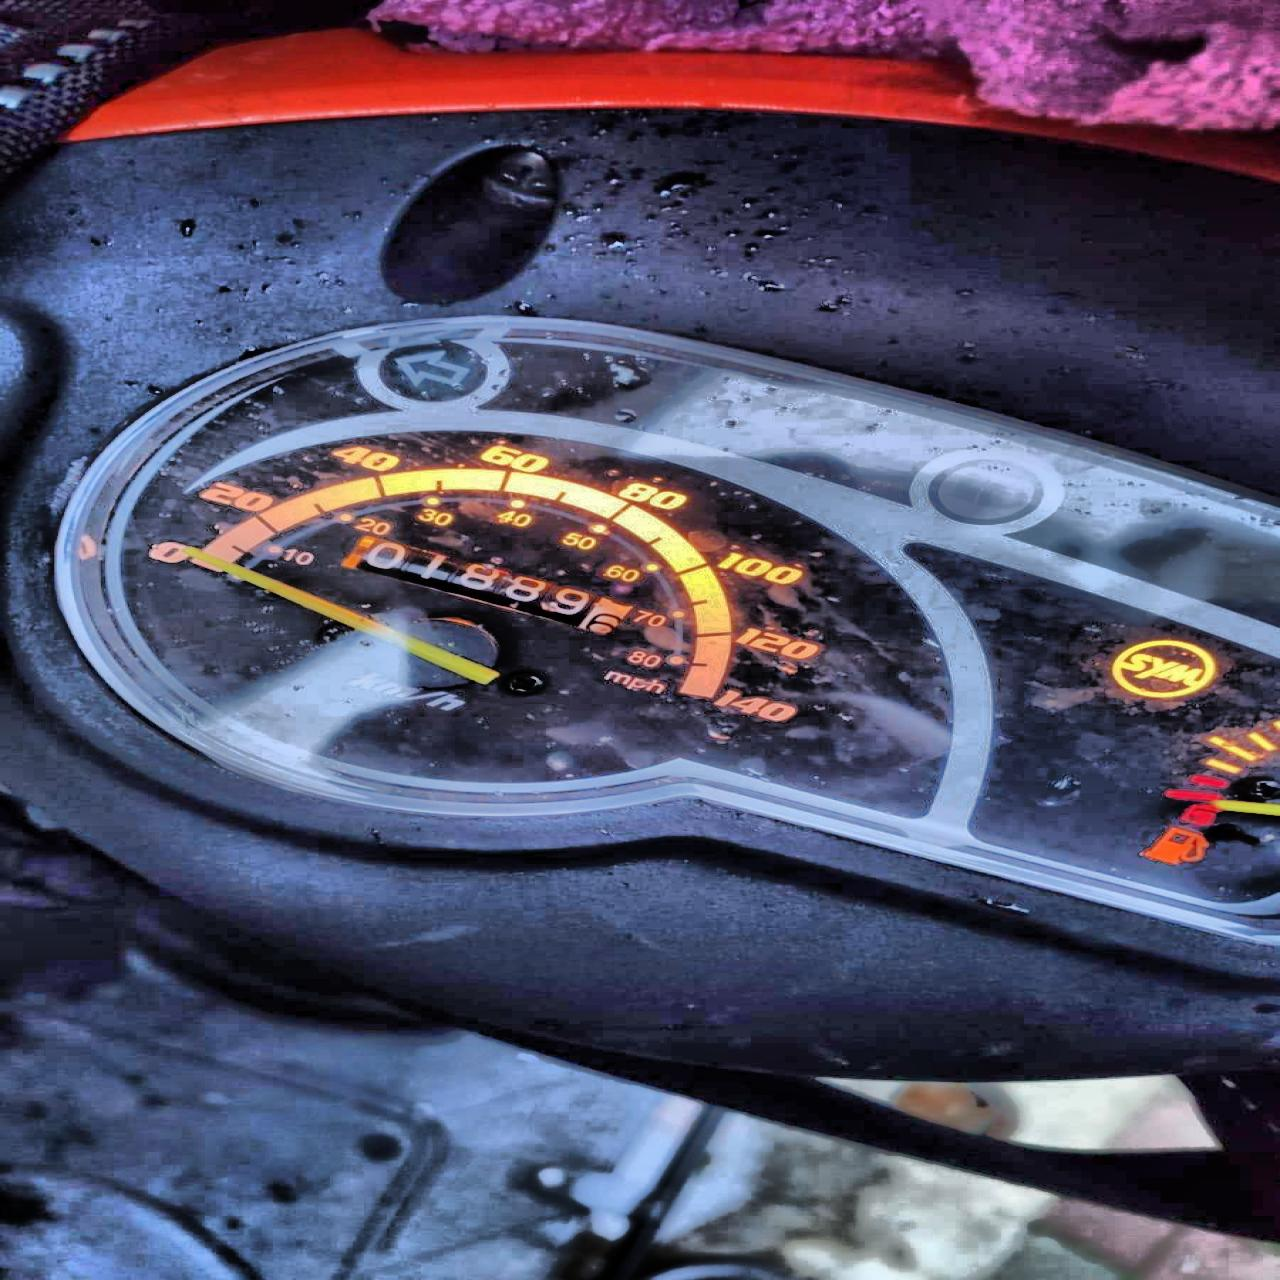0: (361, 540, 407, 570), (579, 536, 598, 550), (619, 568, 639, 581)
1: (416, 550, 447, 581)
5: (561, 532, 580, 544)
6: (583, 607, 622, 634), (605, 564, 622, 577)
8: (502, 572, 547, 601), (459, 561, 499, 592)
9: (551, 586, 587, 613)
odometer: (334, 532, 640, 636)
